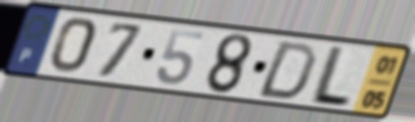0: (46, 15, 101, 76)
5: (155, 27, 207, 87)
7: (98, 21, 146, 81)
8: (205, 32, 255, 97)
D: (253, 39, 320, 102)
L: (304, 44, 355, 110)
